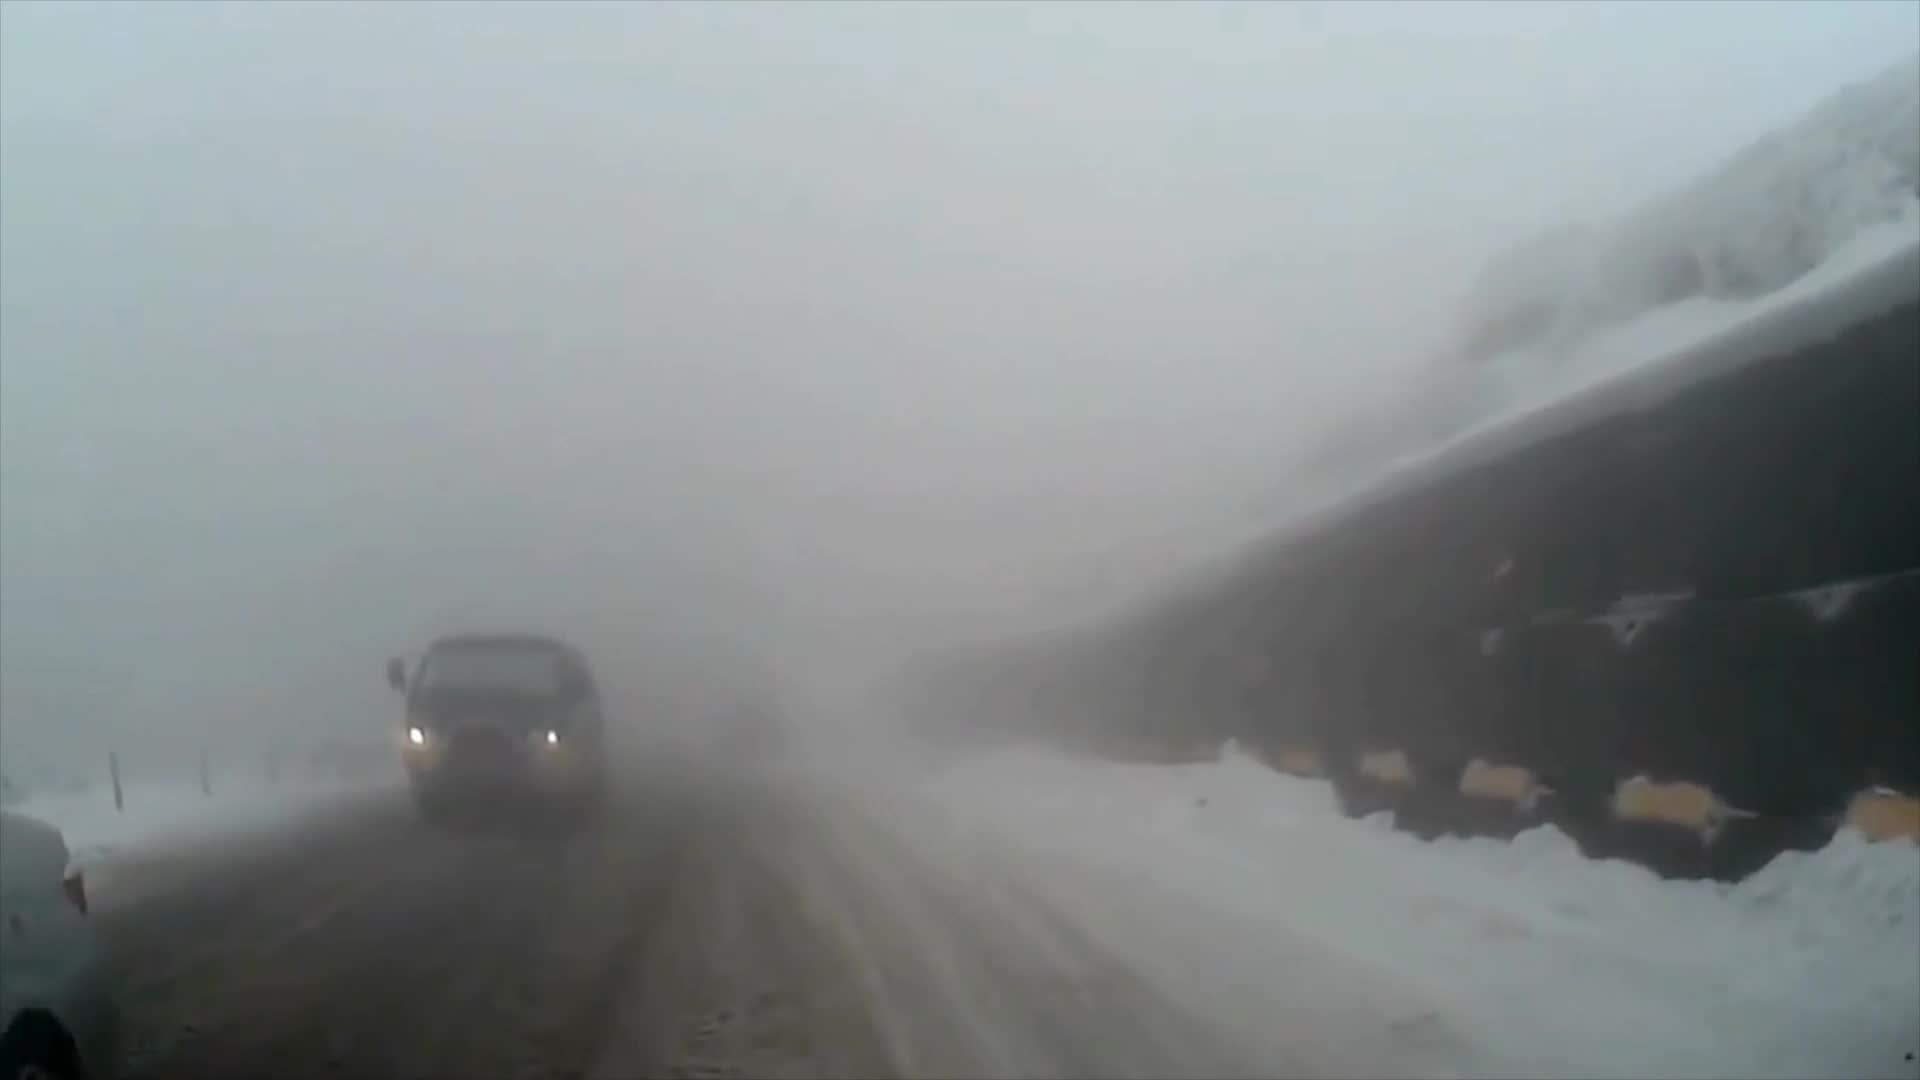vehicle: (381, 632, 609, 833), (0, 796, 112, 1080)
